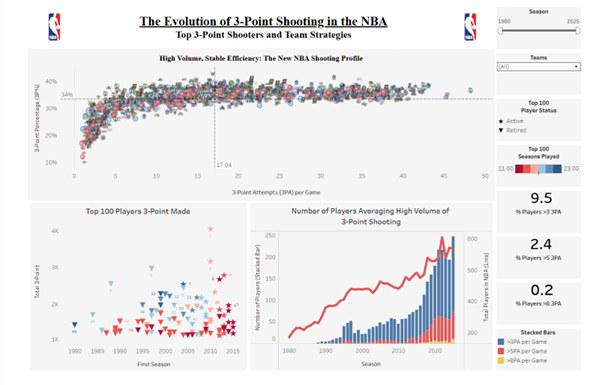

The page's visual inventory and layout, read from the dashboard file:
{"tool":"tableau","page":{"name":"2","canvas":[1200,800],"ordinal":1},"visuals":[{"type":"image","param":"Image/vecteezy_nba-logo-png-nba-icon-transparent-png_27127448.png","box":[8,8,113,92]},{"type":"text","box":[121,8,779,92]},{"type":"image","param":"Image/vecteezy_nba-logo-png-nba-icon-transparent-png_27127448.png","box":[900,8,103,92]},{"type":"filter","title":"Volume","param":"[federated.00hitc70hvxlqg125p1g30e4fgd5].[none:season:qk]","box":[1003,8,189,98]},{"type":"worksheet","title":"T-Vol v T-Eff","mark":"Automatic","rows":["three_pt_percentage"],"cols":["avg_3pa_per_game"],"box":[8,100,995,325]},{"type":"filter","title":"T-Vol v T-Eff","param":"[federated.00hitc70hvxlqg125p1g30e4fgd5].[none:team (Scatter):nk]","box":[1003,106,189,98]},{"type":"legend","title":"Top 100","param":"[federated.00hitc70hvxlqg125p1g30e4fgd5].[none:player_status:nk]","box":[1003,204,189,98]},{"type":"legend","title":"Top 100","param":"[federated.00hitc70hvxlqg125p1g30e4fgd5].[none:seasons_played:qk]","box":[1003,302,189,98]},{"type":"worksheet","title":"%+3PA","mark":"Automatic","box":[1003,400,189,98]},{"type":"worksheet","title":"Top 100","mark":"Shape","rows":["total_3p"],"cols":["first_season"],"box":[8,425,467,367]},{"type":"worksheet","title":"Volume","mark":"Bar","rows":["total_players"],"cols":["season"],"box":[475,425,528,367]},{"type":"worksheet","title":"%+5PA","mark":"Automatic","box":[1003,498,189,98]},{"type":"worksheet","title":"%+8PA","mark":"Automatic","box":[1003,596,189,98]},{"type":"legend","title":"Volume","param":"[federated.00hitc70hvxlqg125p1g30e4fgd5].[:Measure Names]","box":[1003,694,189,98]}]}

Visuals, with their boxes on the page's 1200x800 design canvas (x1, y1, x2, y2). These are canvas units, not pixel positions in the 602x385 screenshot, which may show the page scaled, cropped or inside an application window:
image: [left=8, top=8, right=121, bottom=100]
text: [left=121, top=8, right=900, bottom=100]
image: [left=900, top=8, right=1003, bottom=100]
"Volume" filter: [left=1003, top=8, right=1192, bottom=106]
"T-Vol v T-Eff" worksheet: [left=8, top=100, right=1003, bottom=425]
"T-Vol v T-Eff" filter: [left=1003, top=106, right=1192, bottom=204]
"Top 100" legend: [left=1003, top=204, right=1192, bottom=302]
"Top 100" legend: [left=1003, top=302, right=1192, bottom=400]
"%+3PA" worksheet: [left=1003, top=400, right=1192, bottom=498]
"Top 100" worksheet (Shape marks): [left=8, top=425, right=475, bottom=792]
"Volume" worksheet (Bar marks): [left=475, top=425, right=1003, bottom=792]
"%+5PA" worksheet: [left=1003, top=498, right=1192, bottom=596]
"%+8PA" worksheet: [left=1003, top=596, right=1192, bottom=694]
"Volume" legend: [left=1003, top=694, right=1192, bottom=792]
